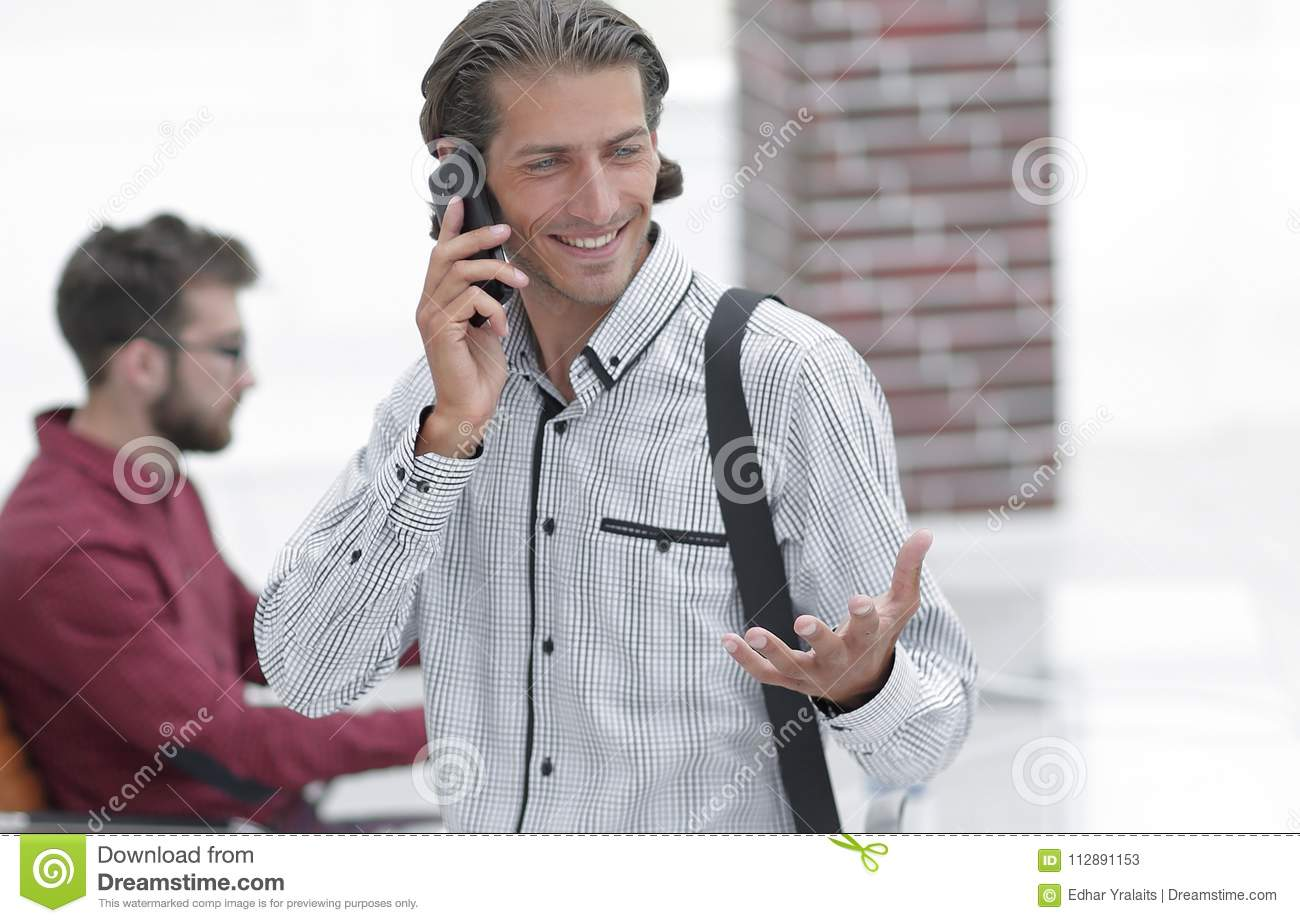phone: (427, 147, 516, 329)
talk: (419, 114, 665, 432)
